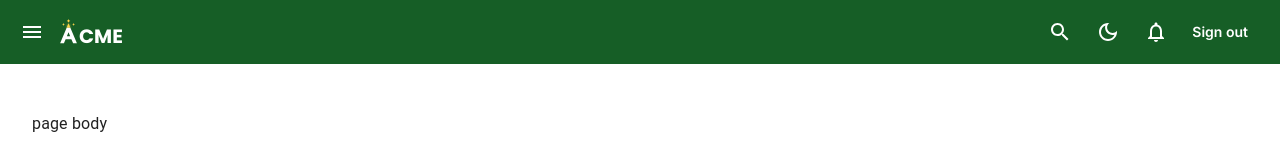
Scenario: AppLayout › gives the phone menu button a tooltip
Hover over the button named "Open menu".
mouse_move(32, 32)  # box [12, 12, 52, 52]
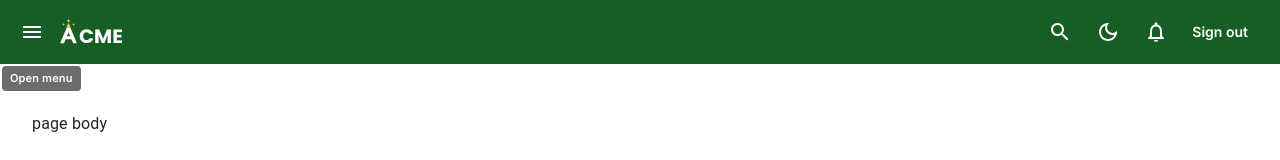
expect the tooltip reads "Open menu": met, box [10, 71, 73, 85]
